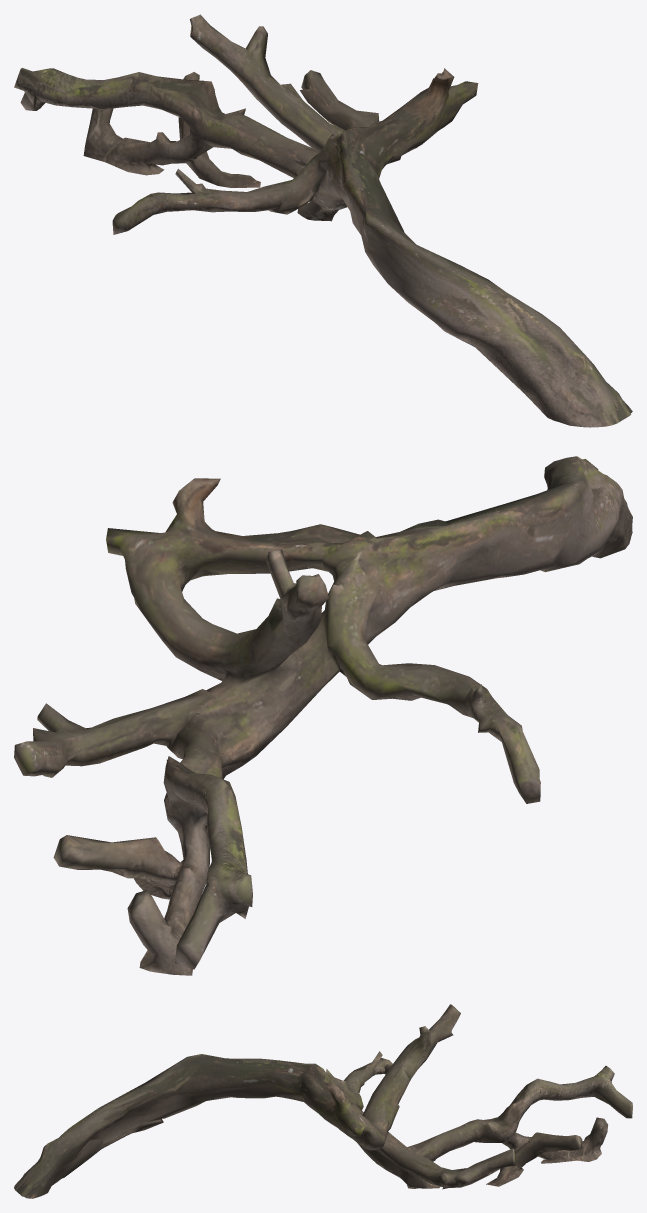
Rendered from sm_Roots_01_02.fbx.
3 views of the same model, one above another, from view 1: azimuth 30°, elevation 25°; view 2: azimuth 150°, elevation 25°; view 3: azimuth 270°, elevation 25° (orthographic). The views are drawn at different scales.
Parts seen in each view (by area): view 1: sm_Roots_01_02_LOD0; view 2: sm_Roots_01_02_LOD0; view 3: sm_Roots_01_02_LOD0.
Boxes of the visible parts, x1=… form: sm_Roots_01_02_LOD0: x1=14, y1=14, x2=632, y2=427; sm_Roots_01_02_LOD0: x1=14, y1=456, x2=632, y2=975; sm_Roots_01_02_LOD0: x1=14, y1=1004, x2=632, y2=1198.
Size of the model in its own units: 53.17 by 120 by 32.26.
